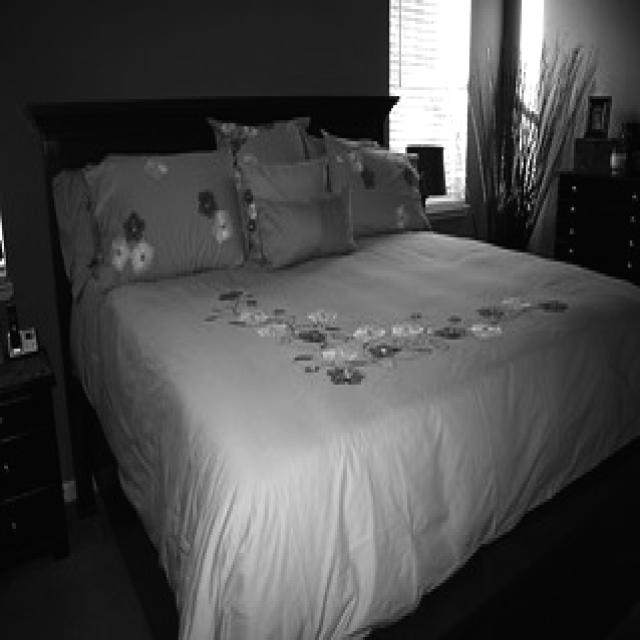bed: (43, 83, 640, 624)
